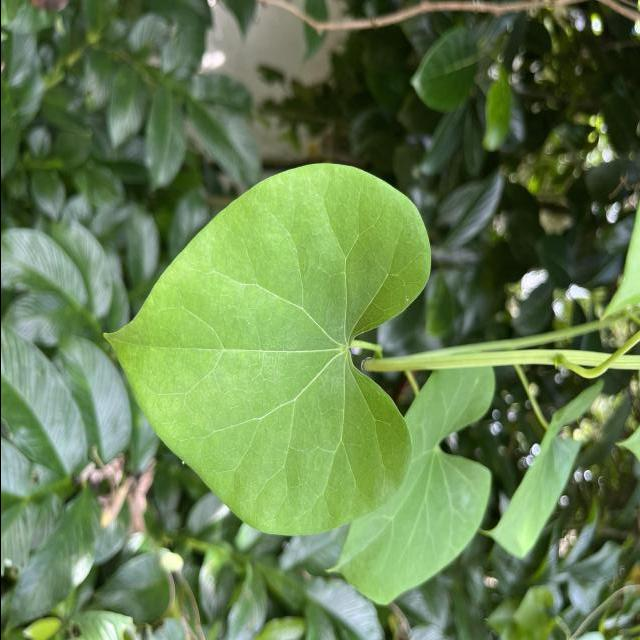Tinospora cordifolia: (98, 158, 436, 540)
